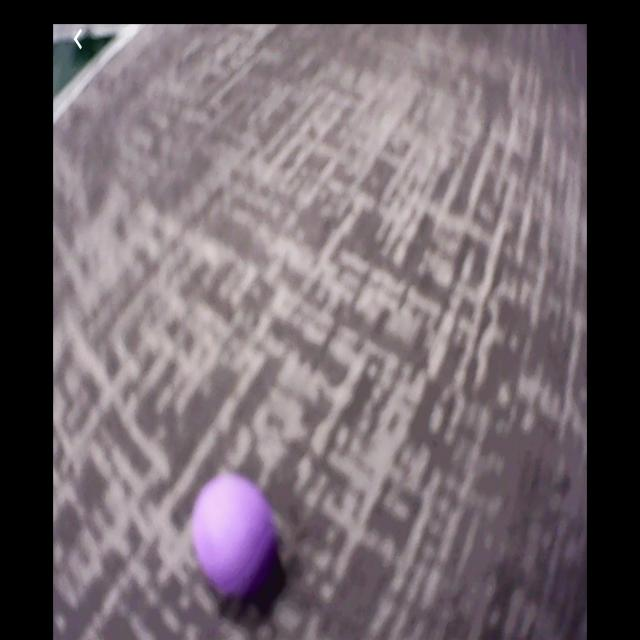ball: (195, 479, 277, 594)
